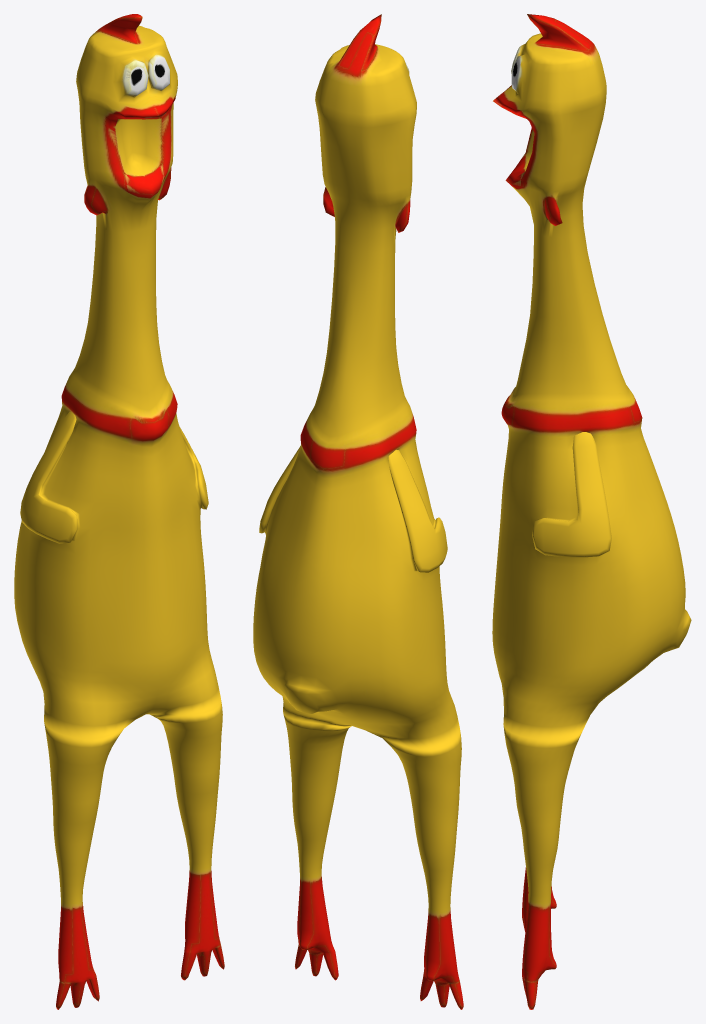
File: CP_RubberChicken_V2.fbx
3 views of the same model, side by side, from view 1: azimuth 30°, elevation 25°; view 2: azimuth 150°, elevation 25°; view 3: azimuth 270°, elevation 25° (orthographic).
Visible parts, largest first — view 1: pCylinder2; view 2: pCylinder2; view 3: pCylinder2.
Boxes of the visible parts, x1=… form: pCylinder2: x1=14, y1=14, x2=224, y2=1009; pCylinder2: x1=253, y1=14, x2=463, y2=1009; pCylinder2: x1=492, y1=14, x2=691, y2=1009.
Bounding box in the file's own units: 1.59 × 8.57 × 1.61.
Materials: 1 (1 with a texture image).
